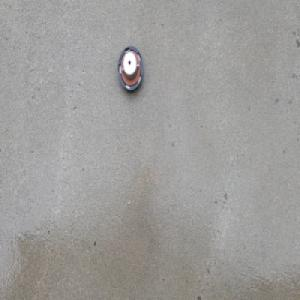FuelCap: (117, 45, 143, 93)
